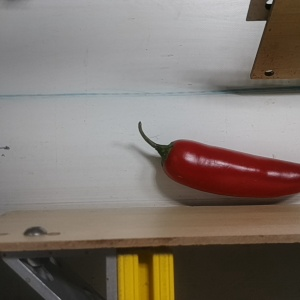Cut Point: (152, 137, 191, 175)
